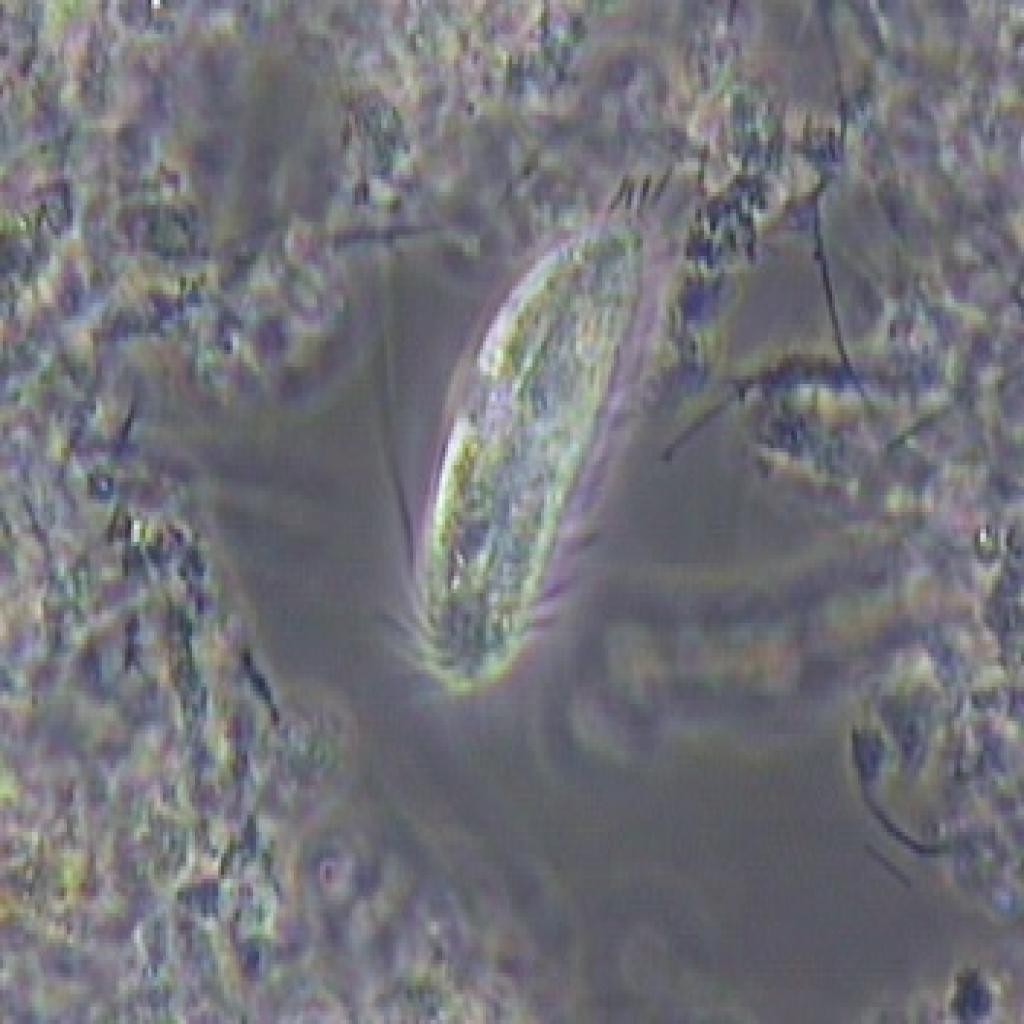Stylonychia: (348, 147, 696, 736)
